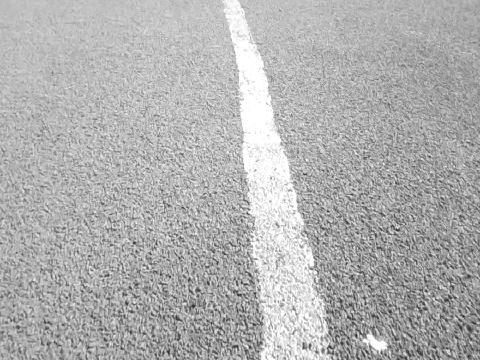Lines: (219, 0, 337, 360)
